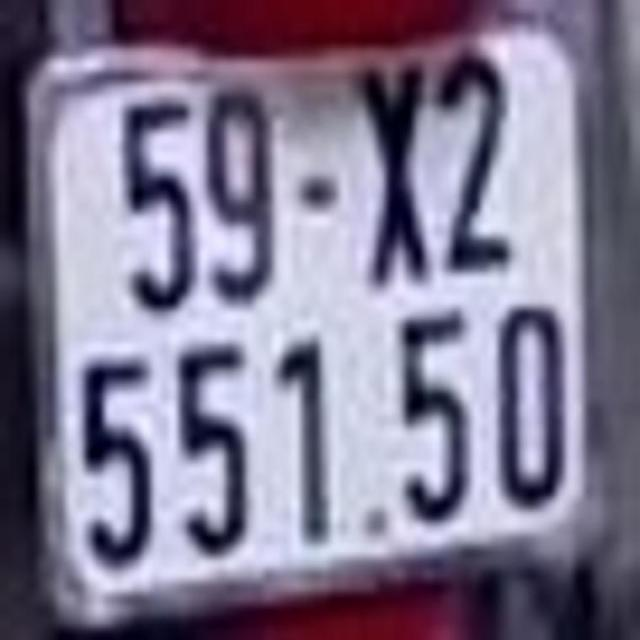0: (494, 287, 573, 520)
1: (273, 322, 357, 541)
2: (439, 52, 522, 276)
5: (73, 335, 164, 570), (104, 90, 199, 309), (394, 297, 481, 529), (177, 328, 258, 559)
9: (199, 73, 278, 312)
X: (360, 59, 437, 290)
